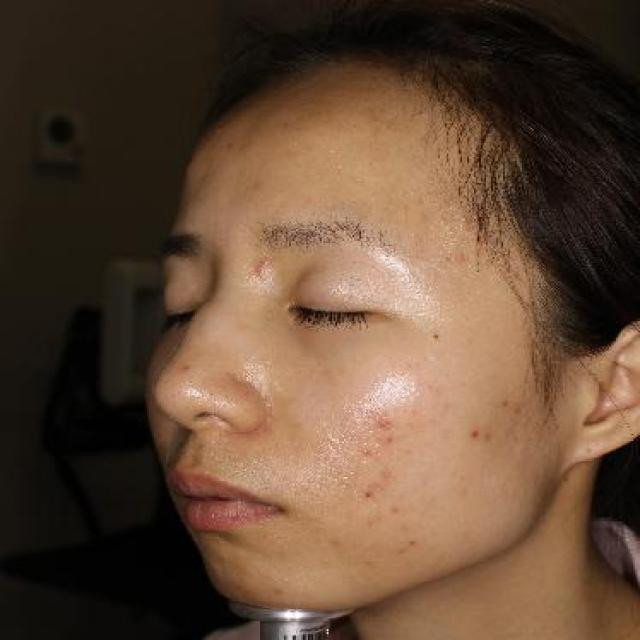blackhead: (356, 486, 378, 502)
darkspot: (381, 432, 400, 451), (465, 420, 478, 445), (358, 443, 371, 463)
nodules: (243, 249, 276, 283), (374, 416, 390, 430)
